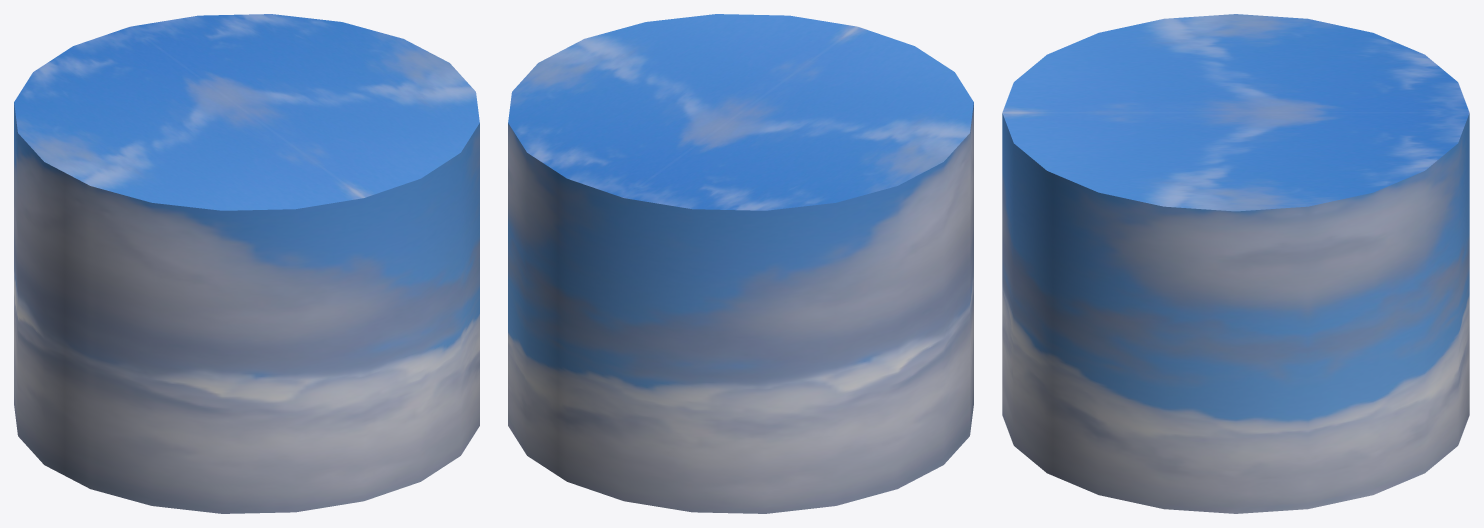
Rendered from circuit_blueSkyCloud.fbx.
3 views of the same model, side by side, from view 1: azimuth 30°, elevation 25°; view 2: azimuth 150°, elevation 25°; view 3: azimuth 270°, elevation 25° (orthographic).
Parts seen in each view (by area): view 1: pCylinder35; view 2: pCylinder35; view 3: pCylinder35.
Part boxes in pixels (x1,y1,x2,y2): pCylinder35: (14, 14, 479, 513); pCylinder35: (508, 14, 973, 513); pCylinder35: (1002, 14, 1469, 513).
Size of the model in its own units: 1400 by 1000 by 1400.
1 material, 1 textured.
